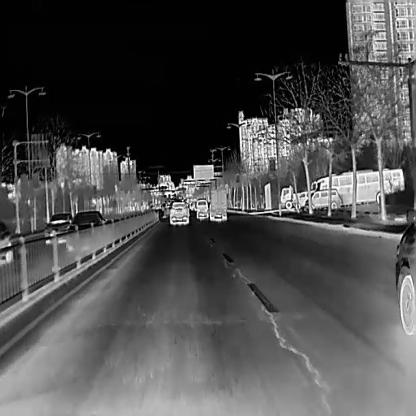bus: (310, 168, 382, 206), (381, 168, 404, 194)
car: (64, 208, 107, 246), (43, 212, 73, 244), (303, 188, 342, 210), (166, 200, 188, 223), (292, 188, 315, 208), (194, 198, 207, 218)
truck: (208, 189, 226, 221), (280, 184, 300, 209)
